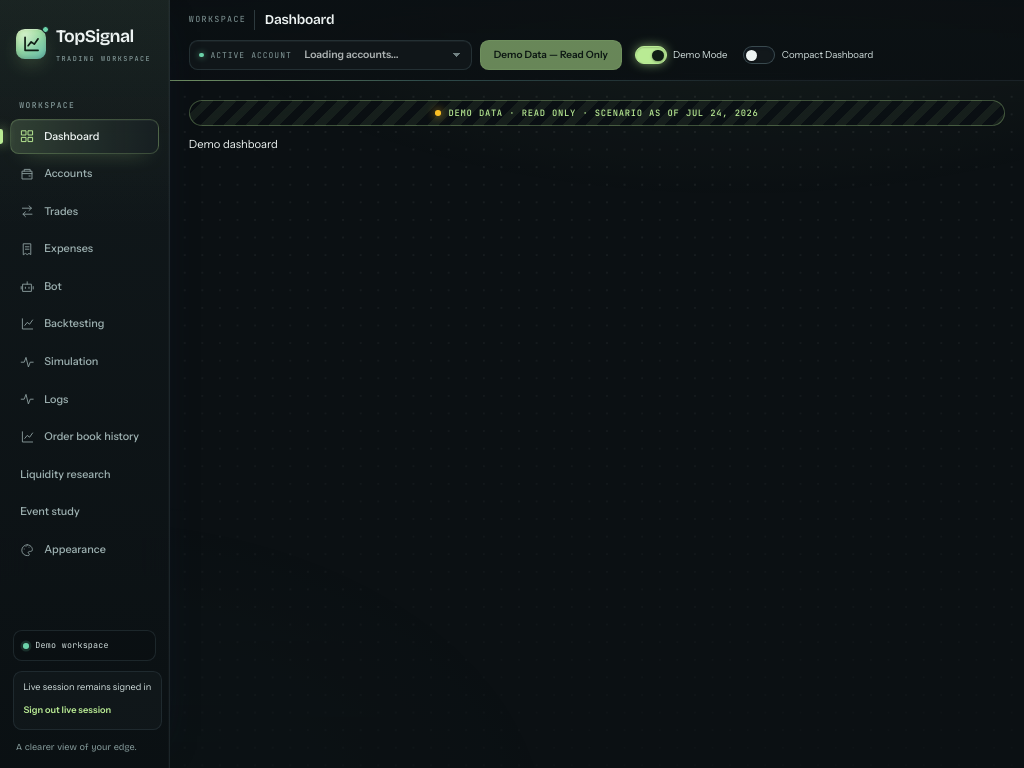
Test: AppShell Demo Mode policy › keeps the session visibly active and reports a sign-out failure
Click the button "Sign out live session": (67, 710) [23, 700, 111, 720]
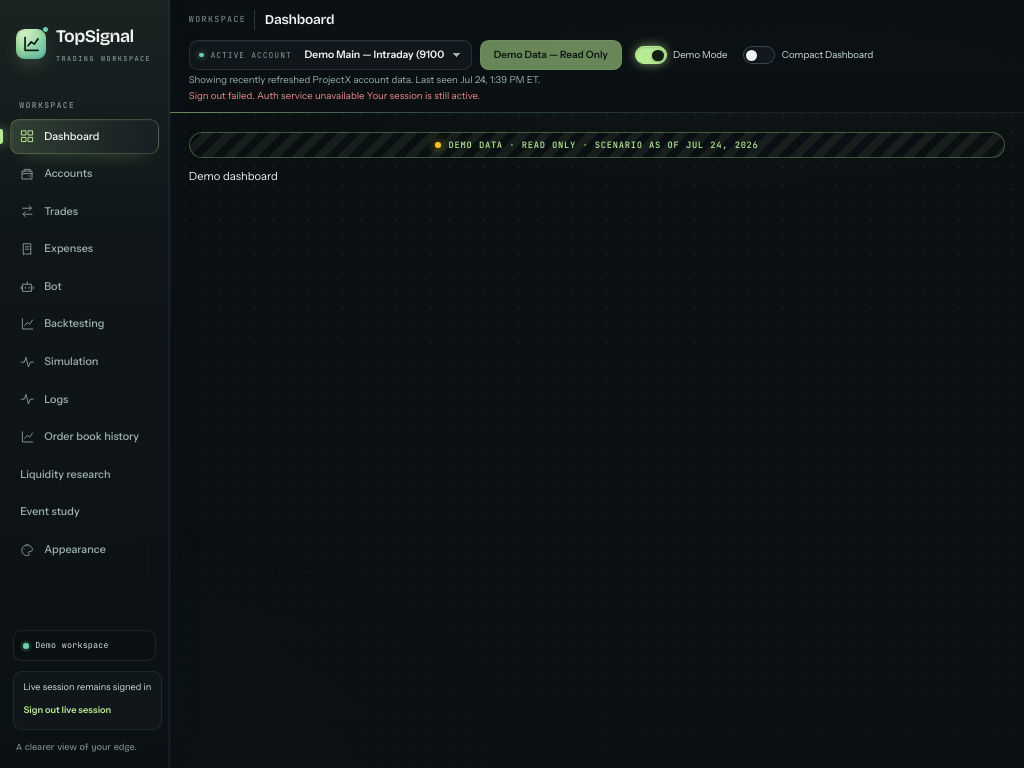
Expected: the message "Sign out failed. Auth service unavailable Your session is still active." is shown, [189, 90, 480, 100]
